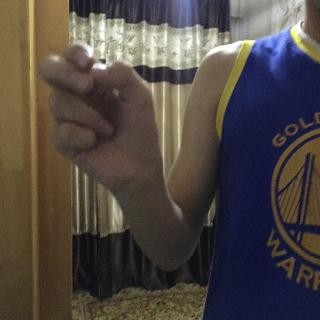QAAF: (36, 36, 166, 205)
